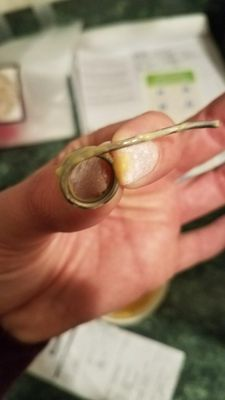pizza: (1, 73, 225, 399)
